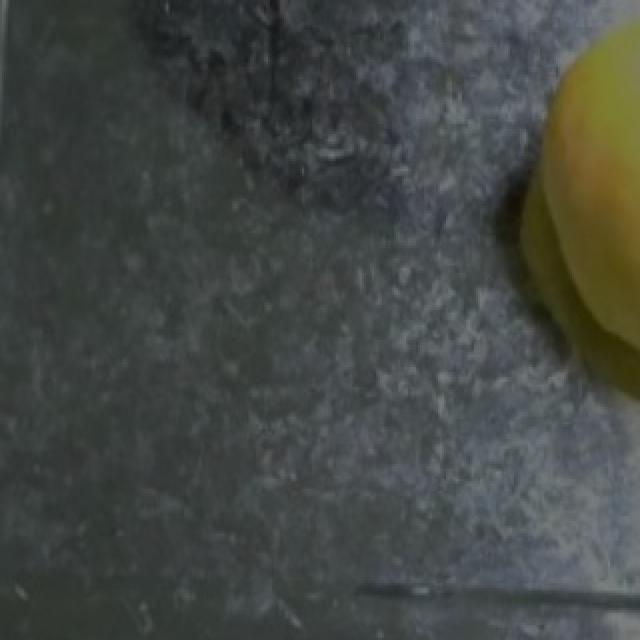fruit: (486, 0, 640, 402)
